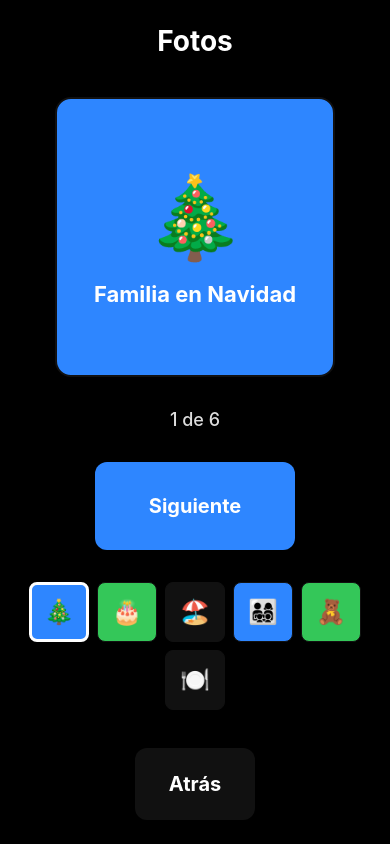
Test: PhotosScreen › wraps around to first photo after last
Click the button "Siguiente": (195, 506) [95,462,295,550]
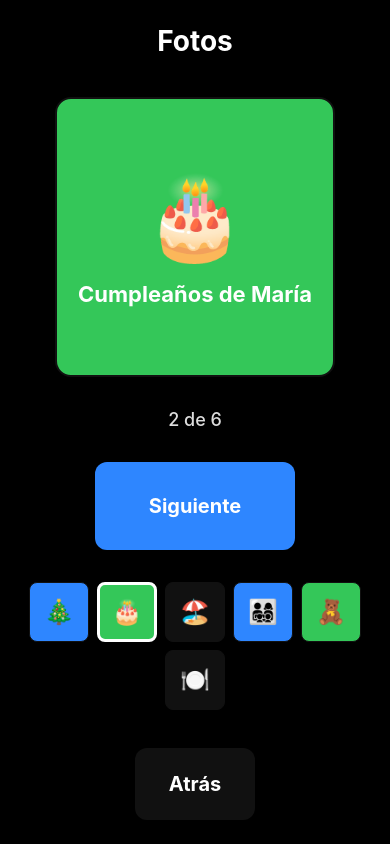
Click the button "Siguiente": (195, 506) [95,462,295,550]
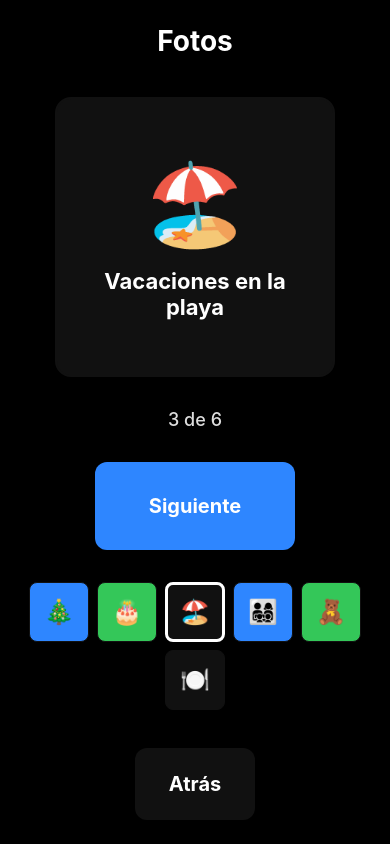
Click the button "Siguiente": (195, 506) [95,462,295,550]
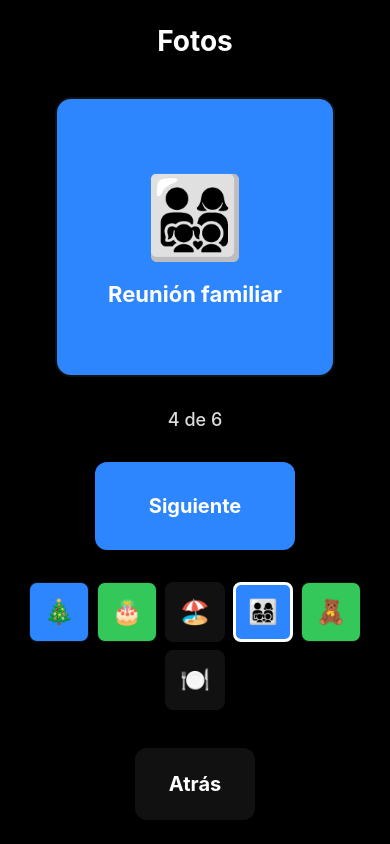
Click the button "Siguiente": (195, 506) [95,462,295,550]
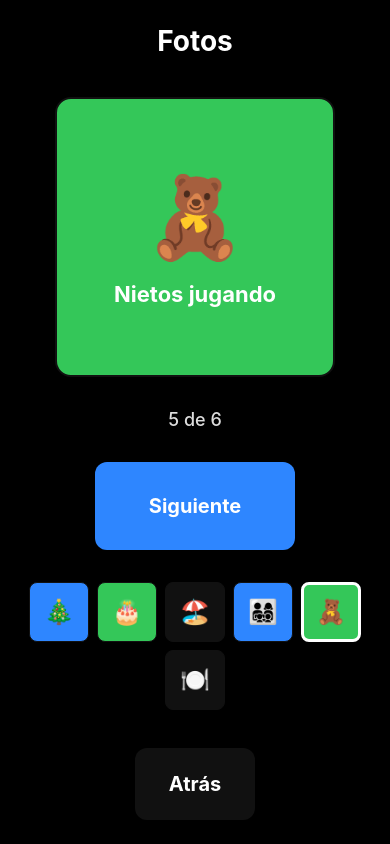
Click the button "Siguiente": (195, 506) [95,462,295,550]
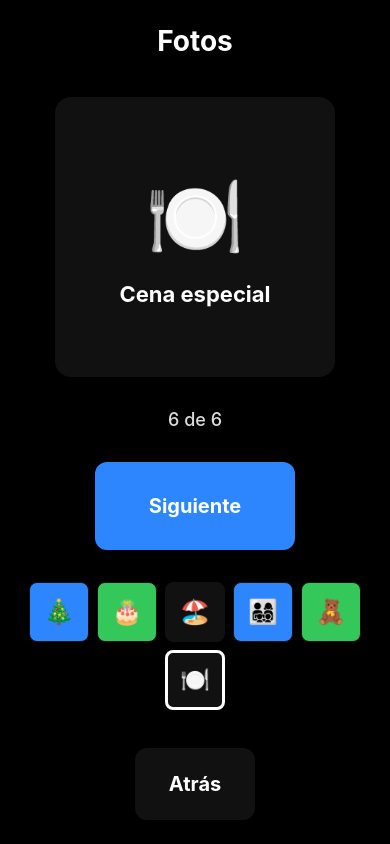
Click the button "Siguiente": (195, 506) [95,462,295,550]
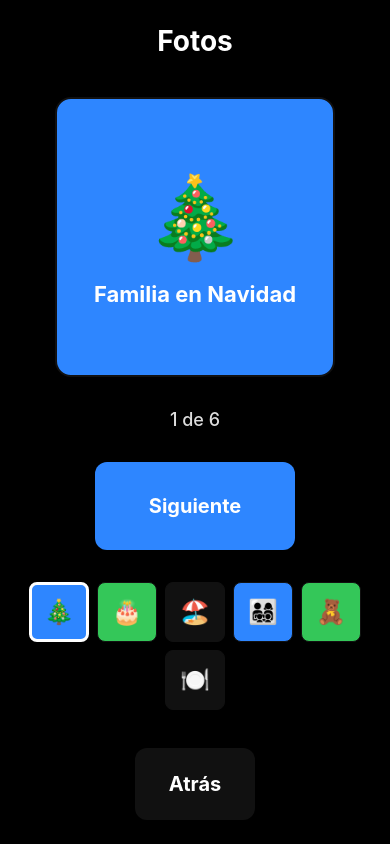
Expected: the text "Familia en Navidad" is shown, [78,280,312,306]
Expected: the text "1 de 6" is shown, [170,408,220,430]
